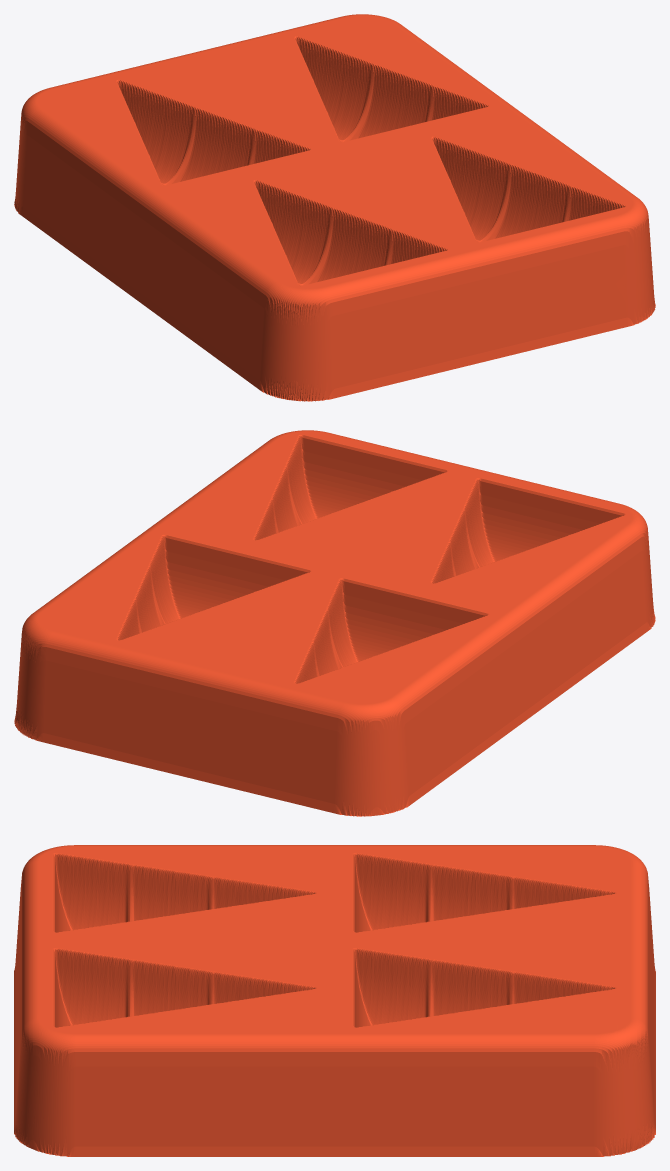
File: mold.glb
3 renders of one model, top to bottom at view 1: azimuth 30°, elevation 25°; view 2: azimuth 150°, elevation 25°; view 3: azimuth 270°, elevation 25°, orthographic. The views are drawn at different scales.
Visible parts, largest first — view 1: geometry_0; view 2: geometry_0; view 3: geometry_0.
Boxes of the visible parts, <box> form: geometry_0: <box>14,14,655,401</box>; geometry_0: <box>14,430,655,816</box>; geometry_0: <box>14,845,655,1156</box>.
Size of the model in its own units: 0.0722 by 0.0182 by 0.0942.
